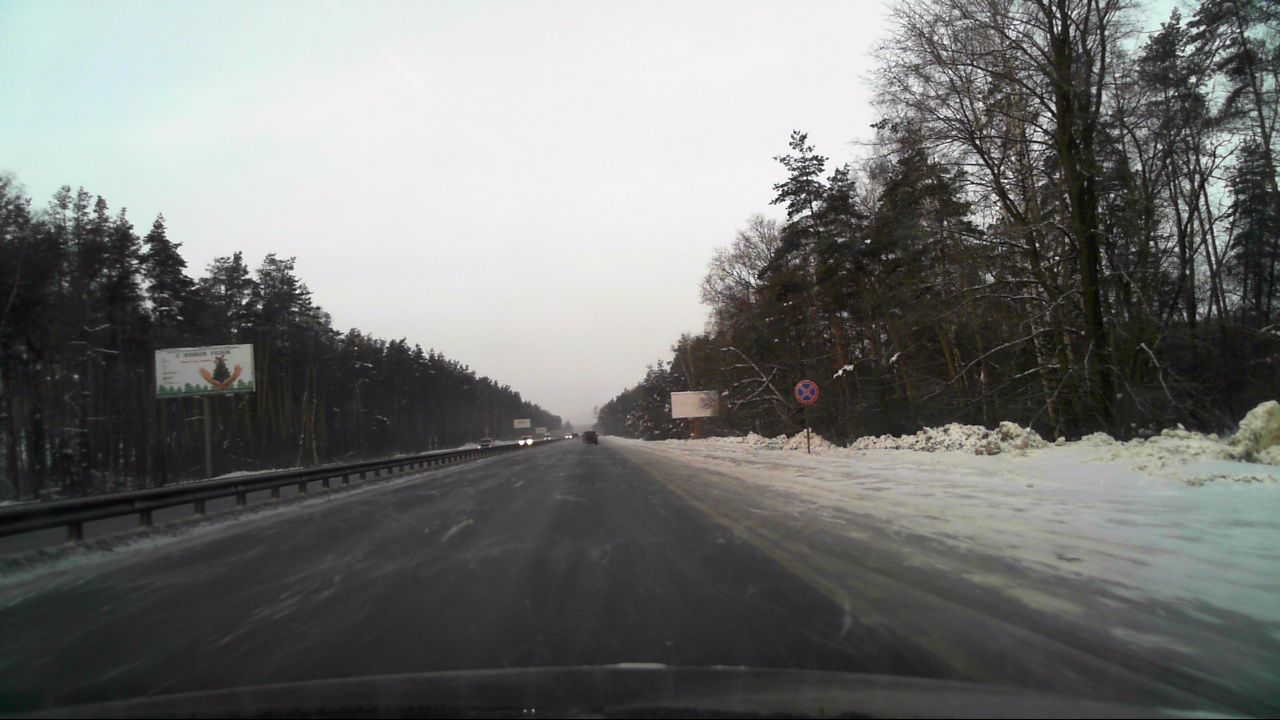No Parking: (794, 378, 818, 405)
